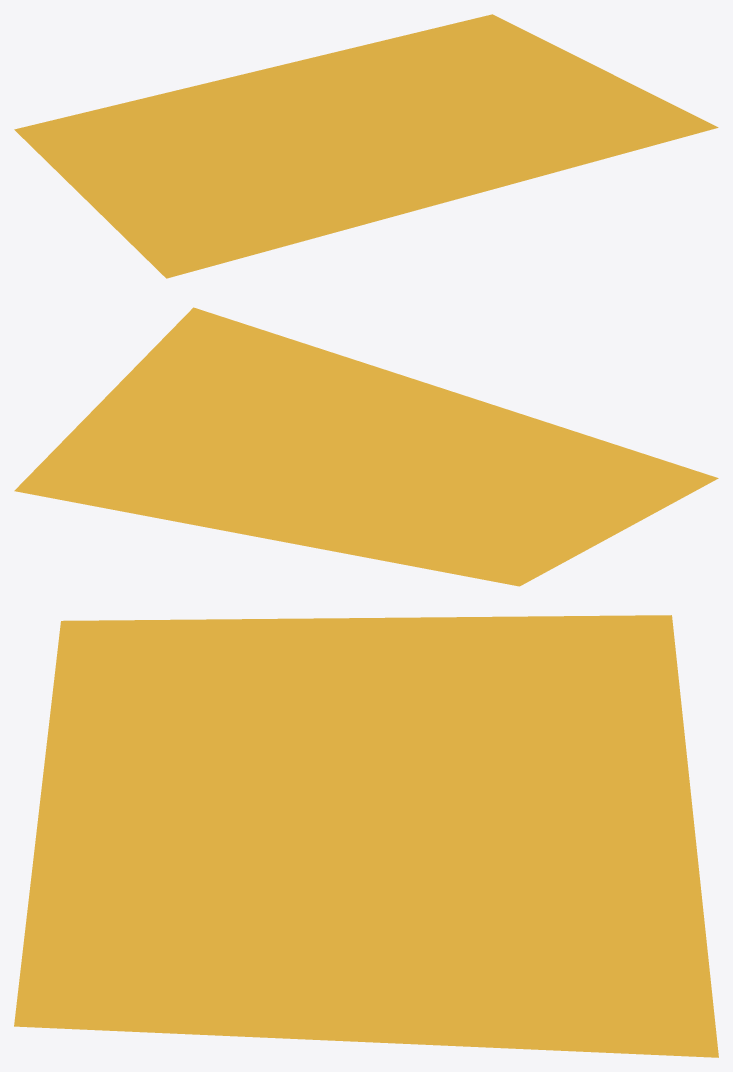
Rendered from CLN_TRASH_WRAPPER_01.fbx.
3 renders of one model, top to bottom at view 1: azimuth 30°, elevation 25°; view 2: azimuth 150°, elevation 25°; view 3: azimuth 270°, elevation 25°, orthographic. The views are drawn at different scales.
Visible parts, largest first — view 1: CLN_TRASH_WRAPPER_01; view 2: CLN_TRASH_WRAPPER_01; view 3: CLN_TRASH_WRAPPER_01.
Boxes of the visible parts, bbox=[...] form: CLN_TRASH_WRAPPER_01: bbox=[14, 14, 718, 278]; CLN_TRASH_WRAPPER_01: bbox=[14, 307, 718, 586]; CLN_TRASH_WRAPPER_01: bbox=[14, 615, 718, 1057].
Size of the model in its own units: 23 by 1.2 by 15.
